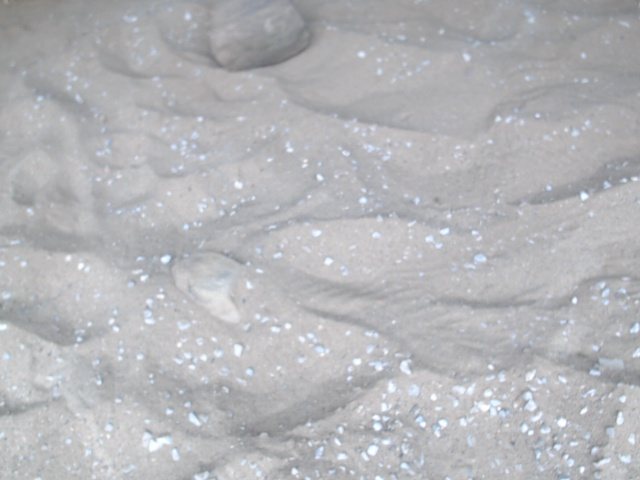rock: (164, 243, 270, 333), (201, 1, 316, 78)
